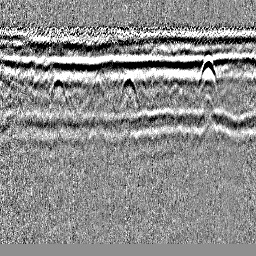cavity: (118, 71, 140, 111)
